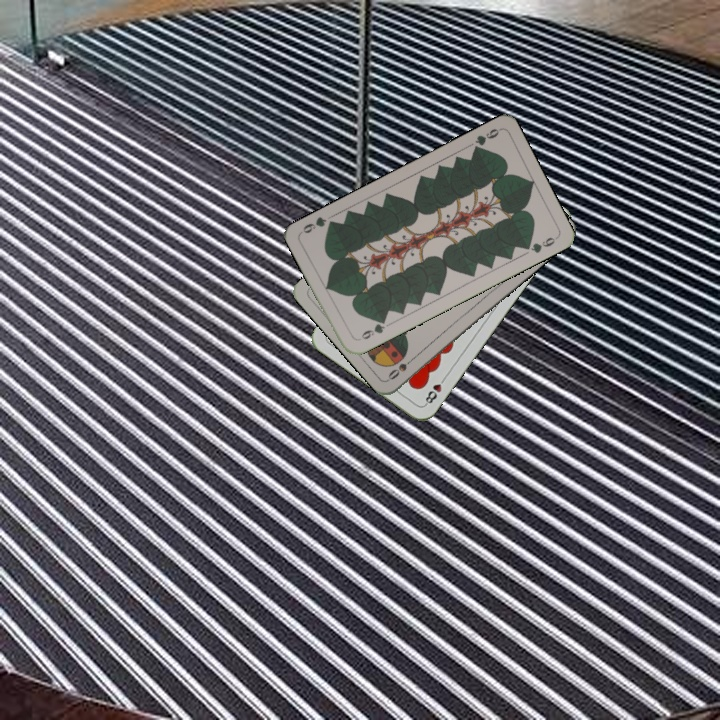G9: (469, 124, 503, 155), (353, 315, 389, 343)
H8: (421, 372, 449, 408)
SO: (384, 352, 419, 383)
